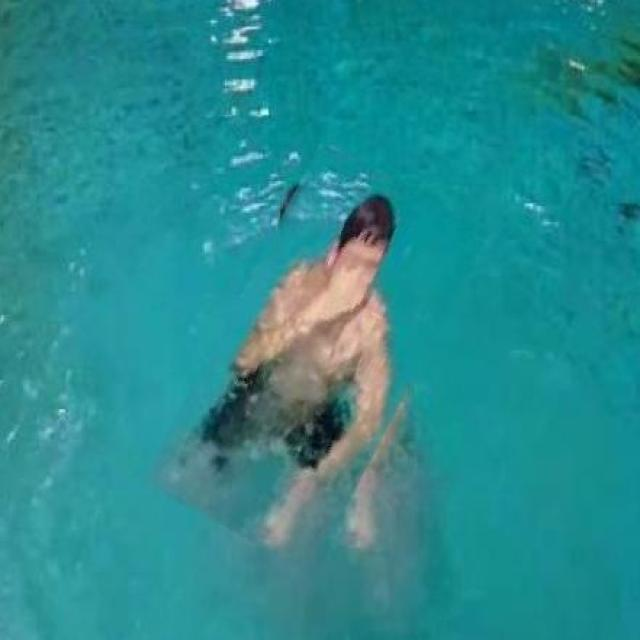Swimming: (212, 185, 411, 508)
